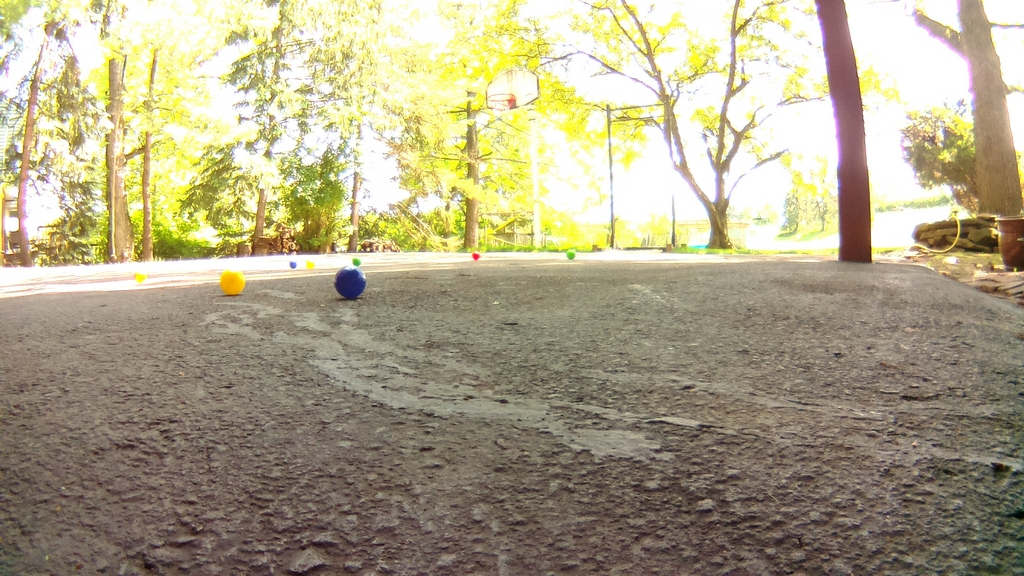ball: (355, 257, 360, 264)
